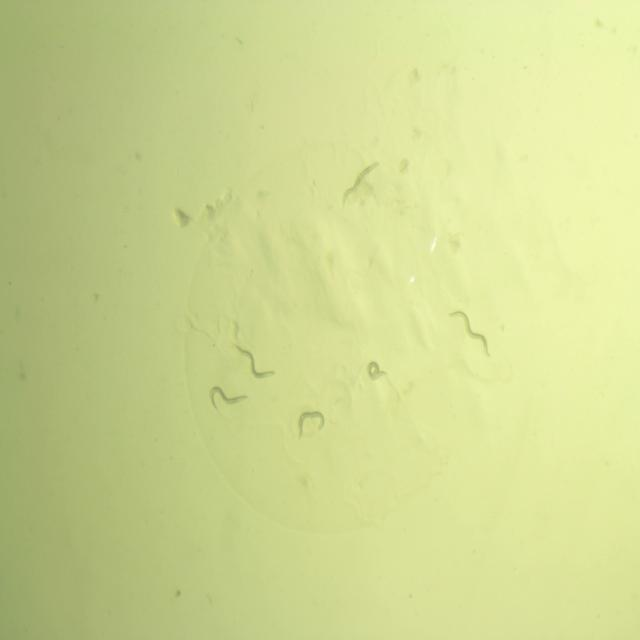worm: (444, 302, 494, 366), (338, 156, 382, 212), (229, 338, 280, 384), (206, 384, 250, 415), (292, 408, 326, 443), (362, 356, 390, 386)
